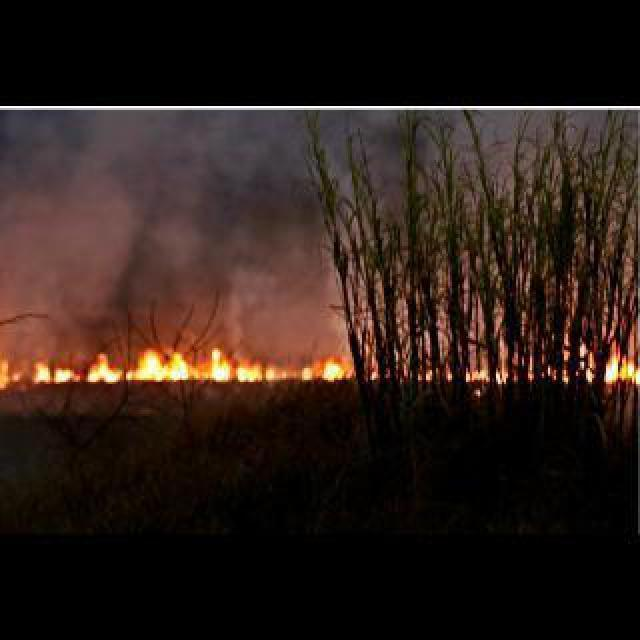Fire: (36, 348, 348, 380), (580, 344, 638, 380), (2, 358, 20, 382)
